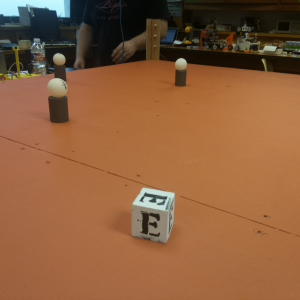obstacle: (48, 78, 69, 122), (175, 58, 188, 90), (53, 53, 67, 80)
